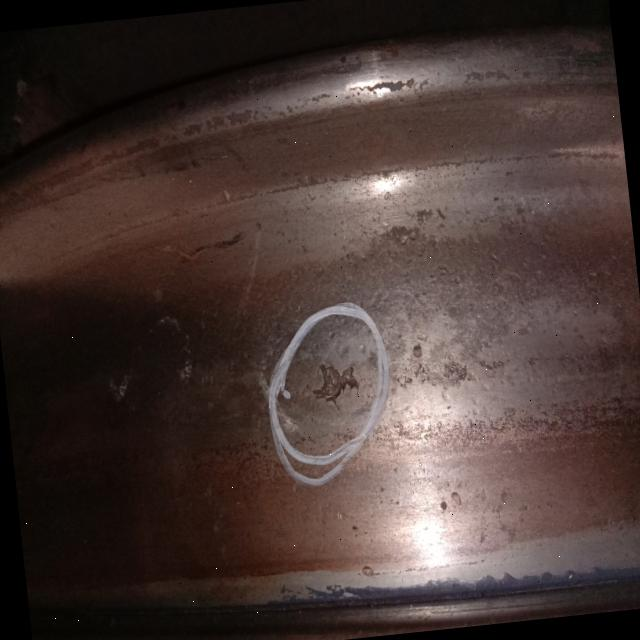Blue hole: (303, 345, 372, 419)
